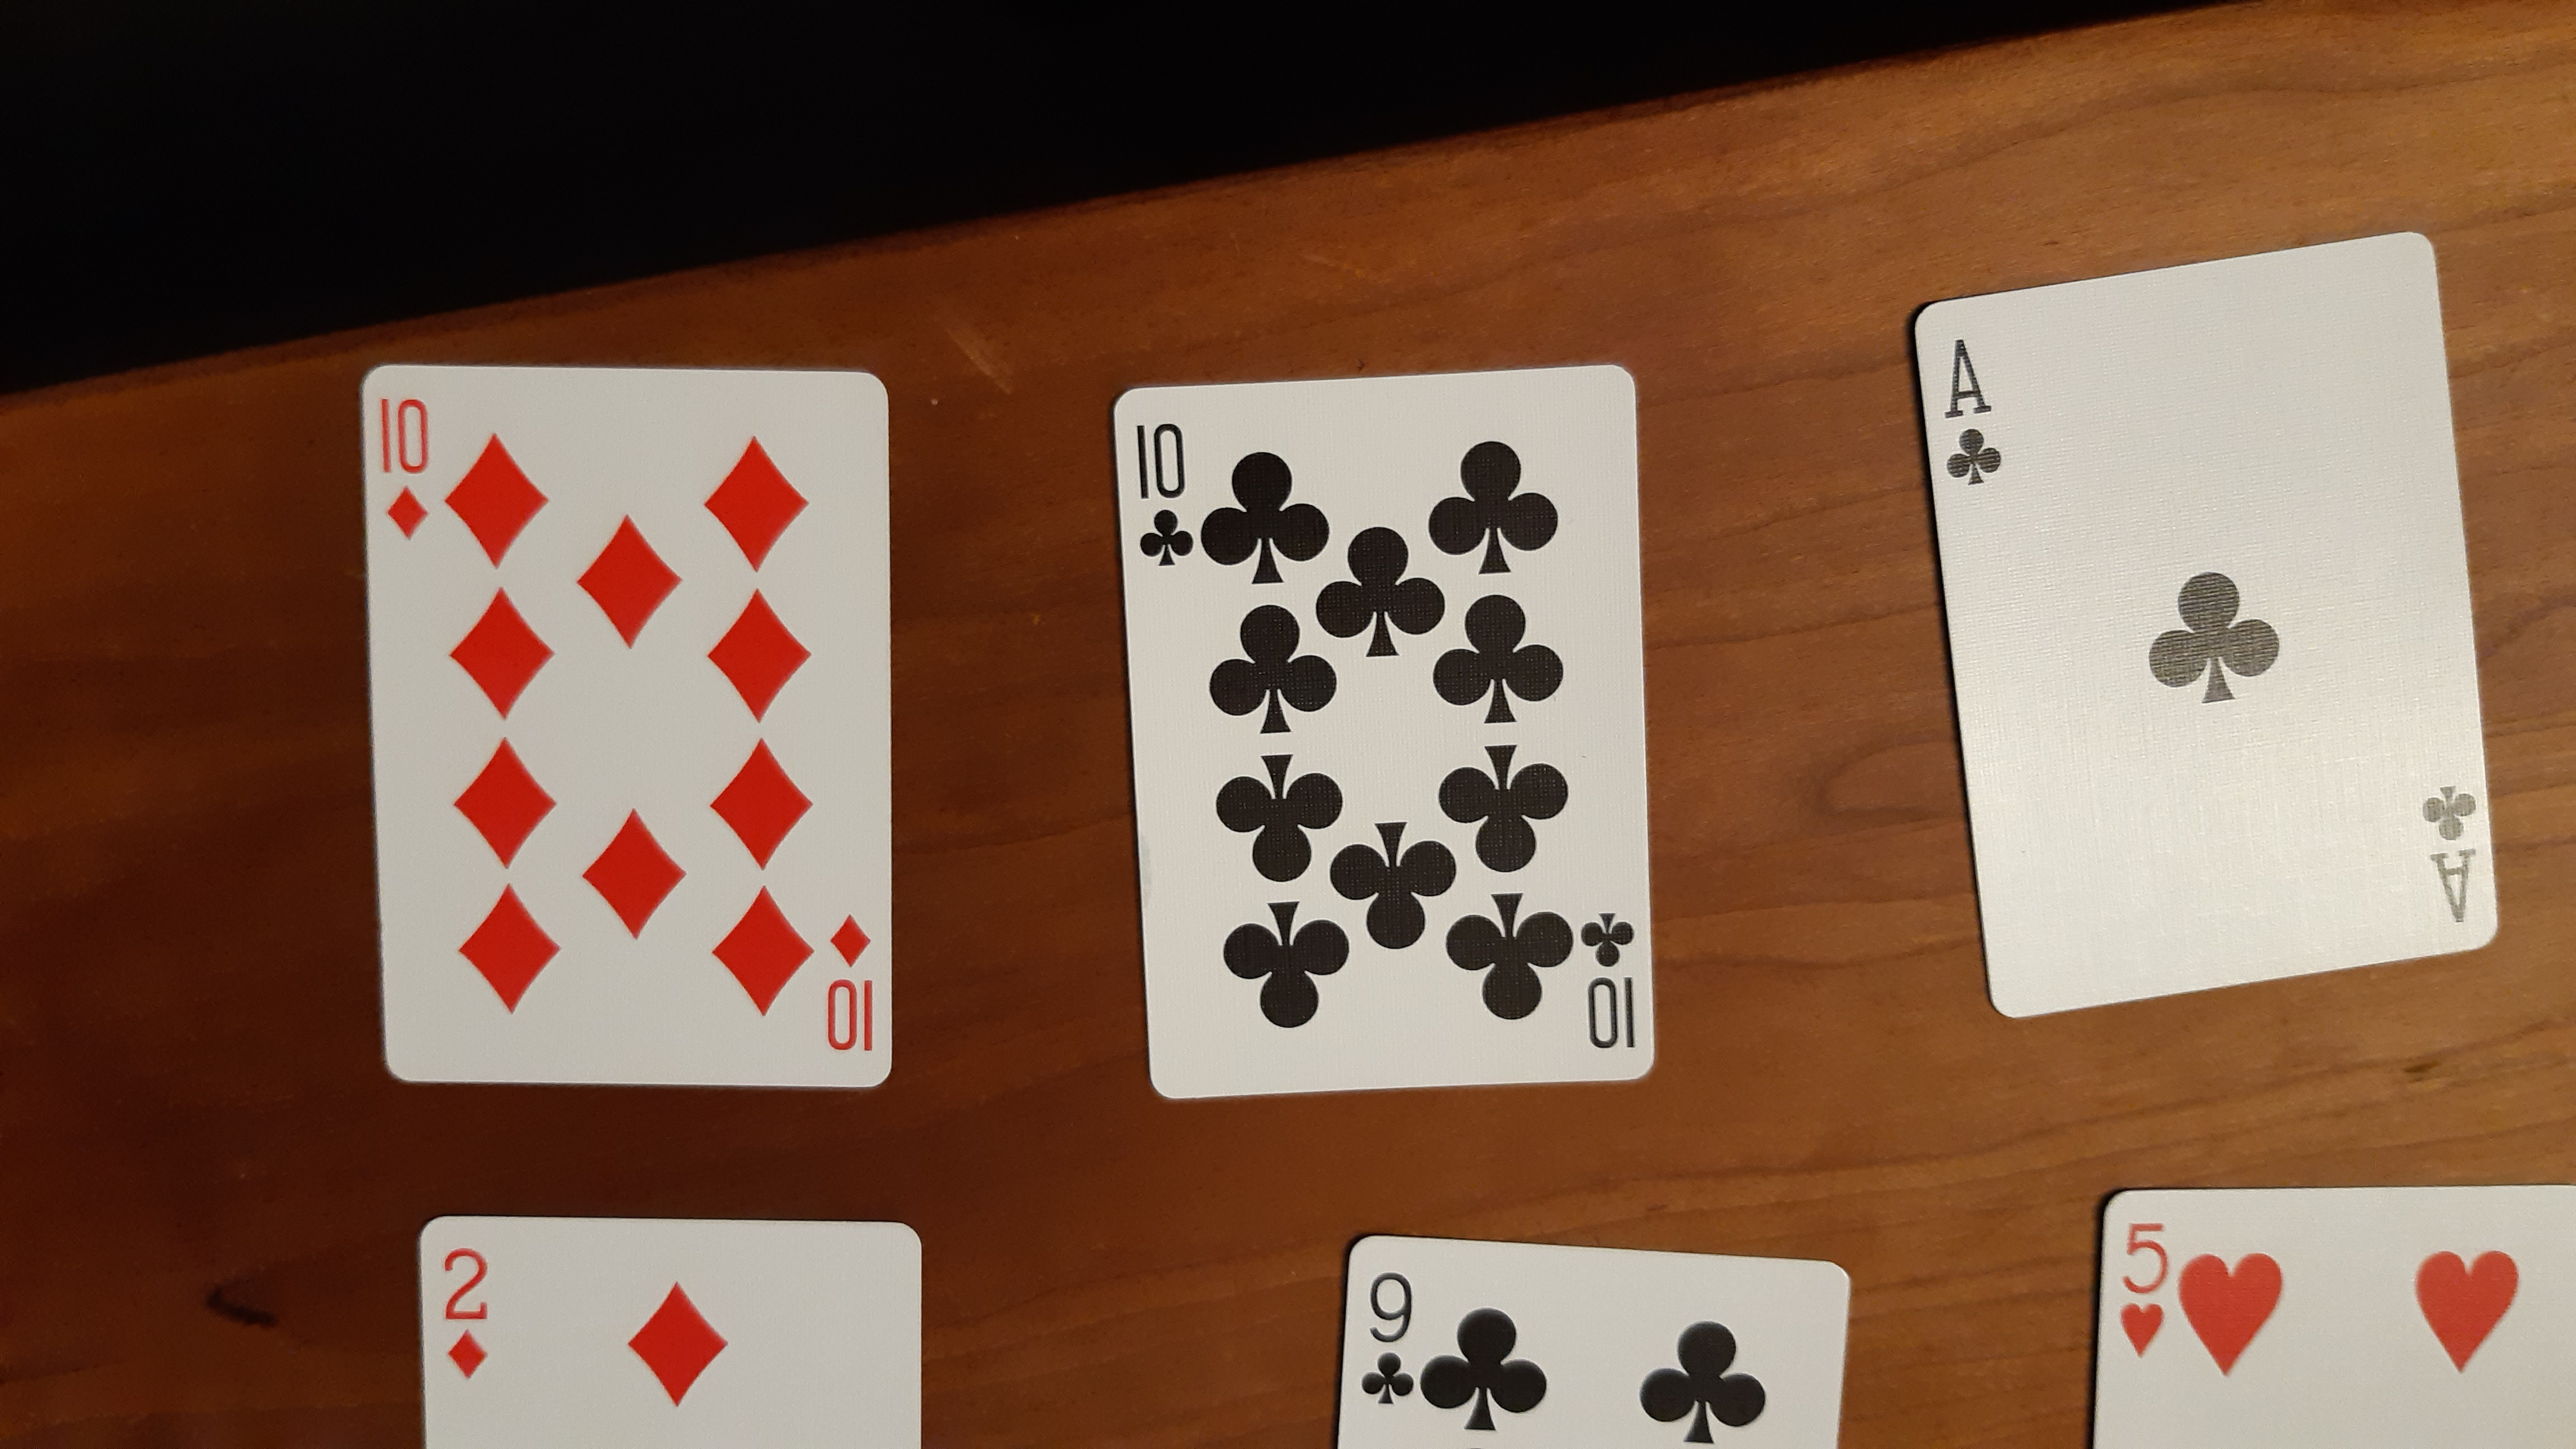Black_Club_10: (1575, 902, 1645, 1053), (1129, 414, 1196, 571)
Black_Club_Ace: (1930, 331, 2010, 490), (2415, 773, 2486, 931)
Red_Diamond_10: (372, 387, 435, 548), (819, 908, 883, 1058)
Red_Diamond_2: (437, 1240, 499, 1376)
Red_Heart_5: (2114, 1212, 2174, 1361)
